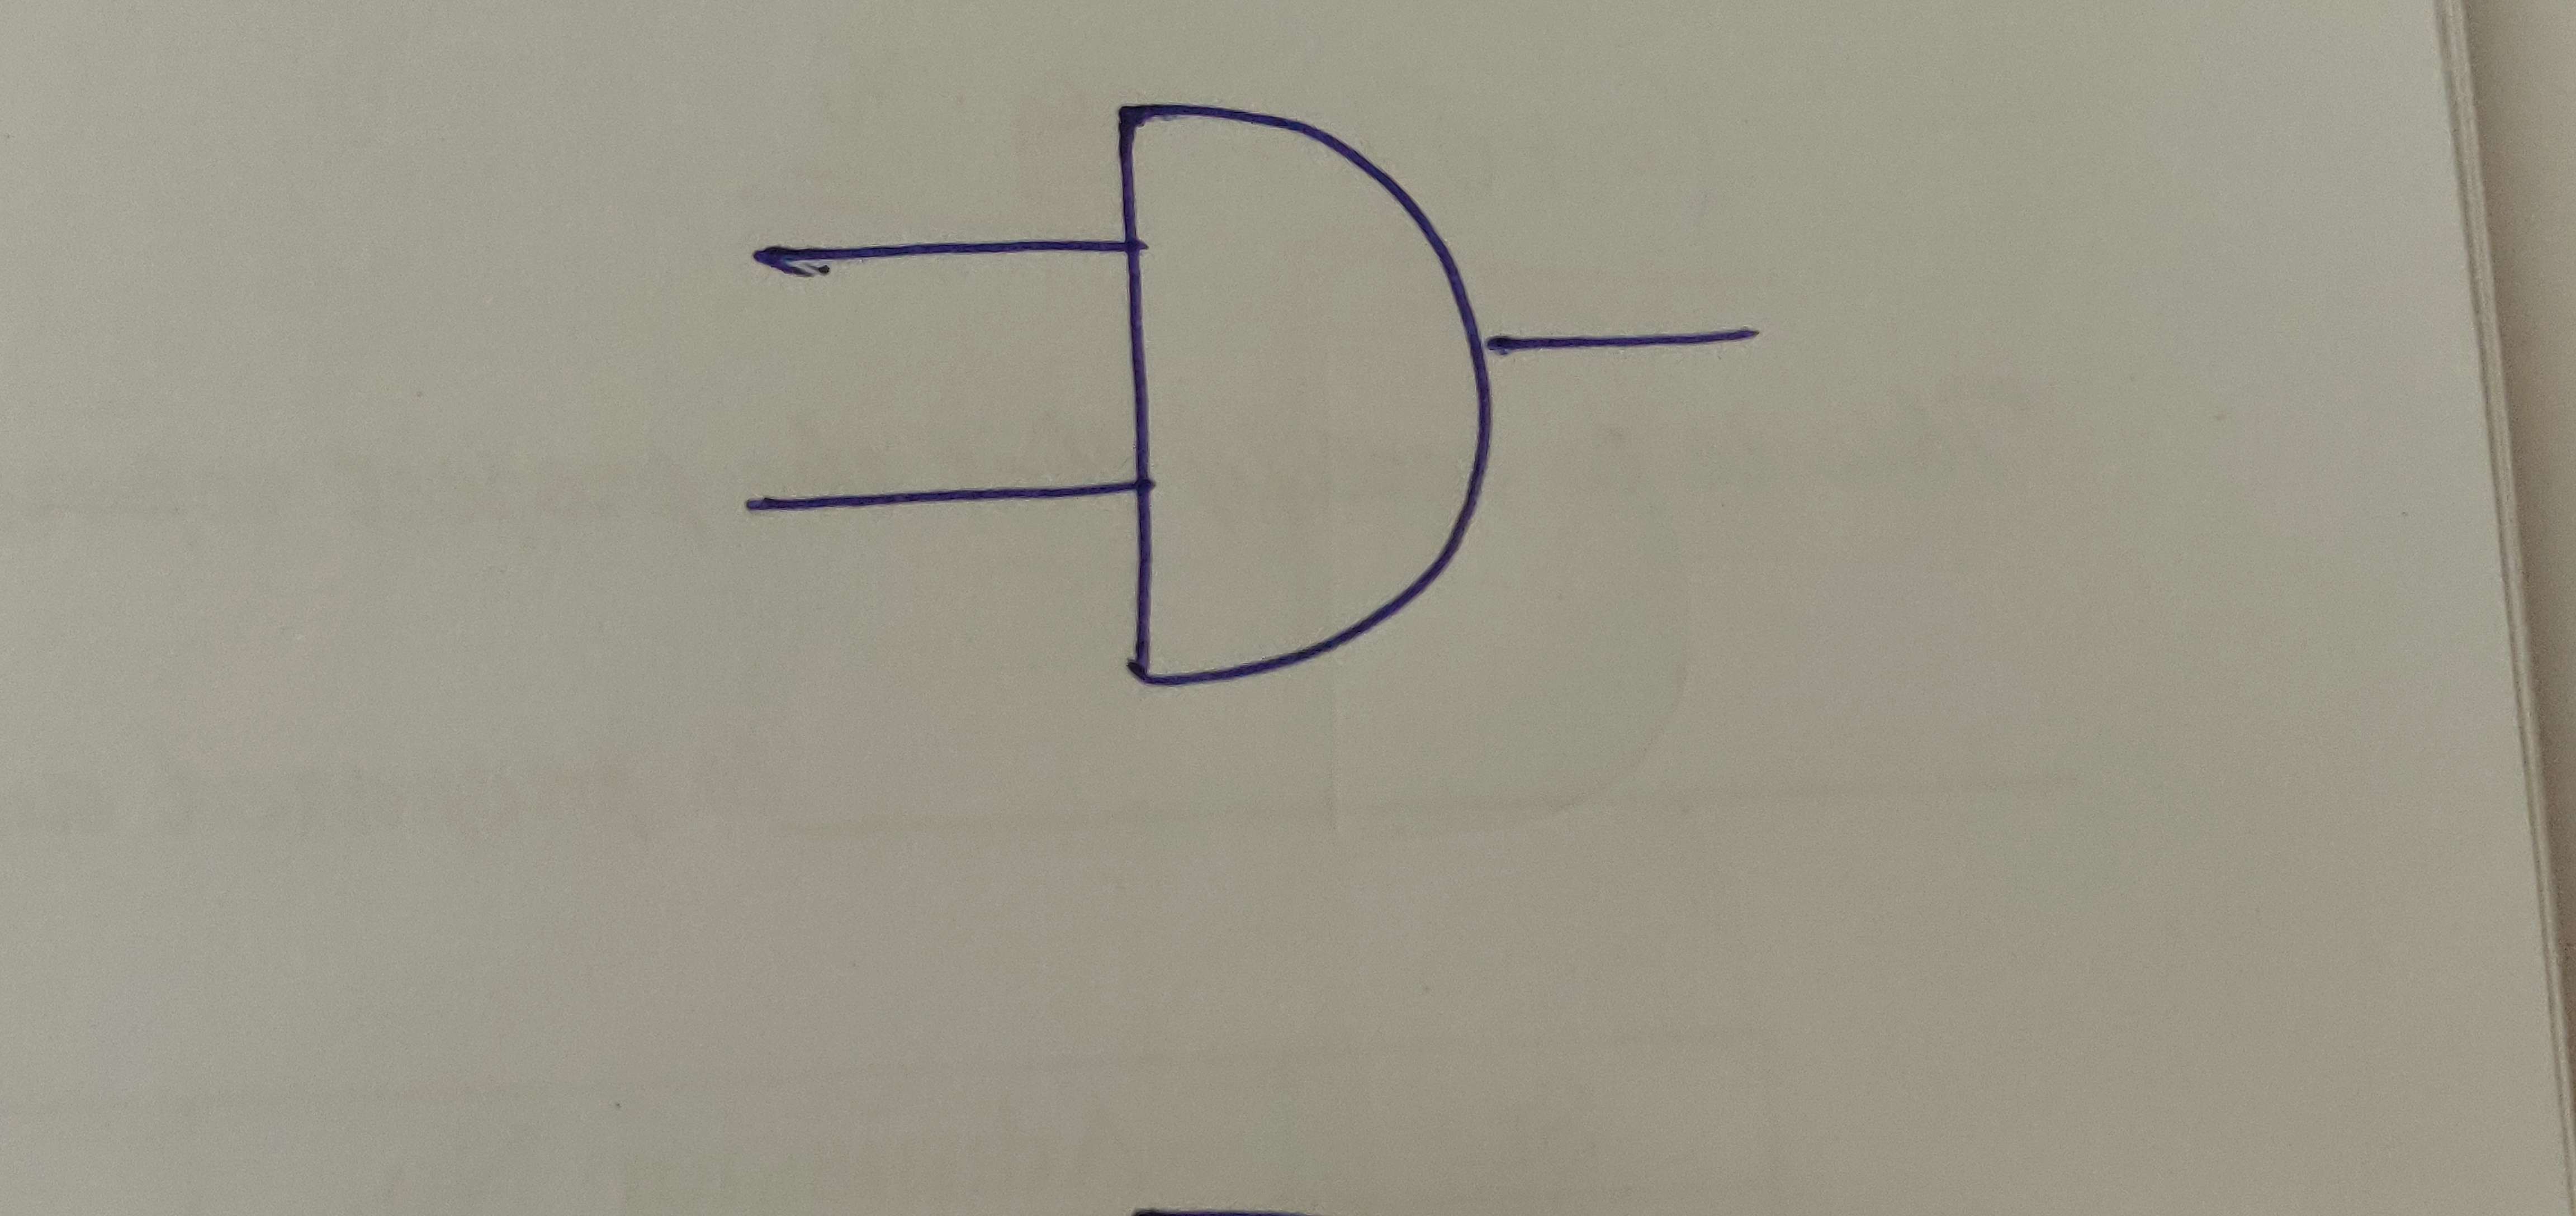and: (1112, 97, 1502, 690)
